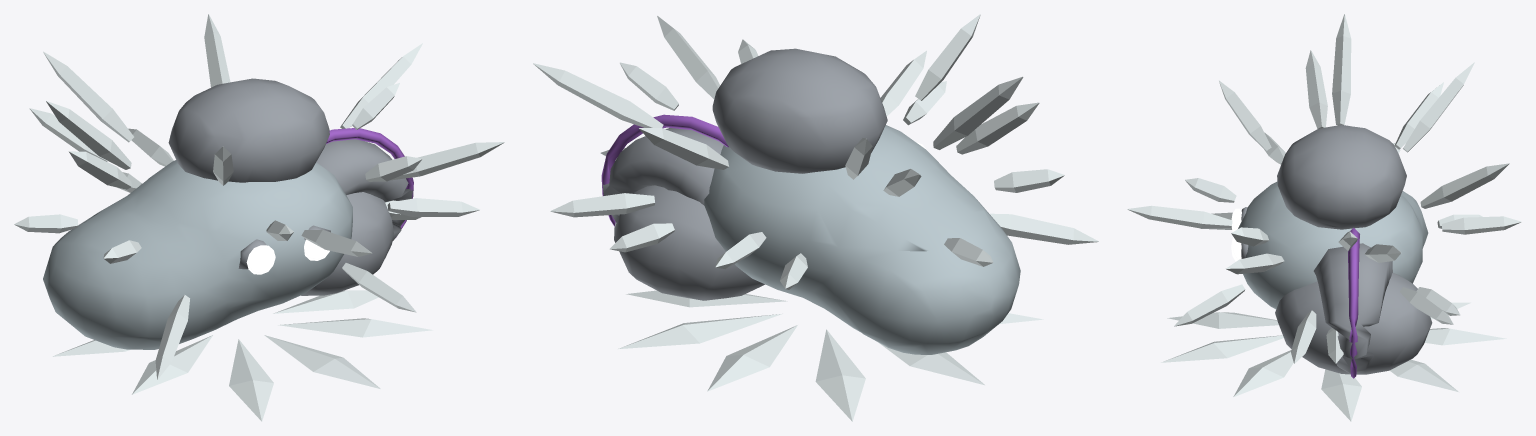
Rendered from fog-night-frost.glb.
3 renders of one model, left to right at view 1: azimuth 30°, elevation 25°; view 2: azimuth 150°, elevation 25°; view 3: azimuth 270°, elevation 25°, orthographic. The views are drawn at different scales.
Parts seen in each view (by area): view 1: pulse_fog, fog_night_frost, sway_curl_b, blink_eyes; view 2: pulse_fog, fog_night_frost, sway_curl_b; view 3: pulse_fog, fog_night_frost, sway_curl_b, blink_eyes.
Boxes of the visible parts, <box> form: pulse_fog: <box>43,78,393,349</box>; fog_night_frost: <box>14,14,504,421</box>; sway_curl_b: <box>316,128,413,240</box>; blink_eyes: <box>246,239,329,274</box>; pulse_fog: <box>614,48,1020,354</box>; fog_night_frost: <box>533,14,1098,421</box>; sway_curl_b: <box>601,114,728,228</box>; pulse_fog: <box>1238,125,1432,374</box>; fog_night_frost: <box>1127,14,1521,421</box>; sway_curl_b: <box>1313,227,1392,378</box>; blink_eyes: <box>1231,208,1241,261</box>.
Bounding box in the file's own units: 0.727 × 0.4706 × 0.6673.
